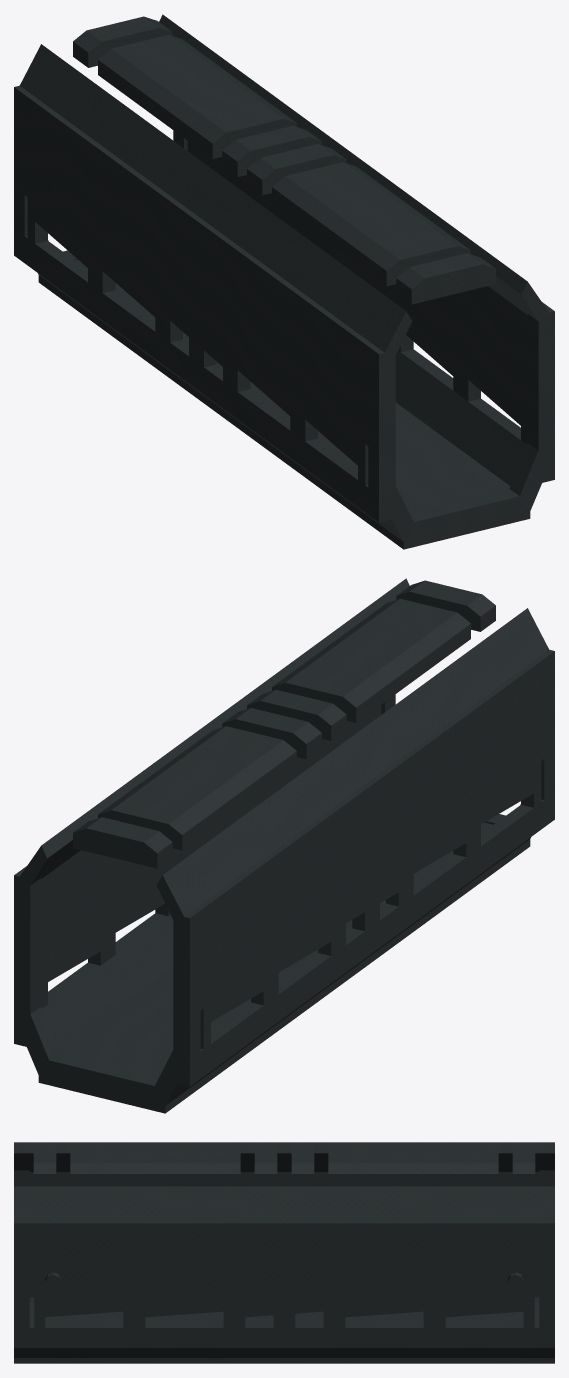
The model's file is scorpion_guard_long.glb.
3 views of the same model, one above another, from view 1: azimuth 30°, elevation 25°; view 2: azimuth 150°, elevation 25°; view 3: azimuth 270°, elevation 25° (orthographic). The views are drawn at different scales.
Visible parts, largest first — view 1: handguard__scorpion_guard_long_LOD0_RAID_Secondary_Original_, handguard__scorpion_guard_long_LOD1_RAID_Secondary_Original_; view 2: handguard__scorpion_guard_long_LOD0_RAID_Secondary_Original_, handguard__scorpion_guard_long_LOD1_RAID_Secondary_Original_; view 3: handguard__scorpion_guard_long_LOD0_RAID_Secondary_Original_, handguard__scorpion_guard_long_LOD1_RAID_Secondary_Original_.
Part boxes in pixels (<box>): handguard__scorpion_guard_long_LOD0_RAID_Secondary_Original_: <box>14,14,554,549</box>; handguard__scorpion_guard_long_LOD1_RAID_Secondary_Original_: <box>28,37,527,511</box>; handguard__scorpion_guard_long_LOD0_RAID_Secondary_Original_: <box>14,578,554,1113</box>; handguard__scorpion_guard_long_LOD1_RAID_Secondary_Original_: <box>41,602,541,1048</box>; handguard__scorpion_guard_long_LOD0_RAID_Secondary_Original_: <box>14,1142,554,1363</box>; handguard__scorpion_guard_long_LOD1_RAID_Secondary_Original_: <box>34,1142,534,1347</box>.
Bounding box in the file's own units: 0.1 × 0.132 × 0.345.
Materials: 1 (1 with a texture image).
